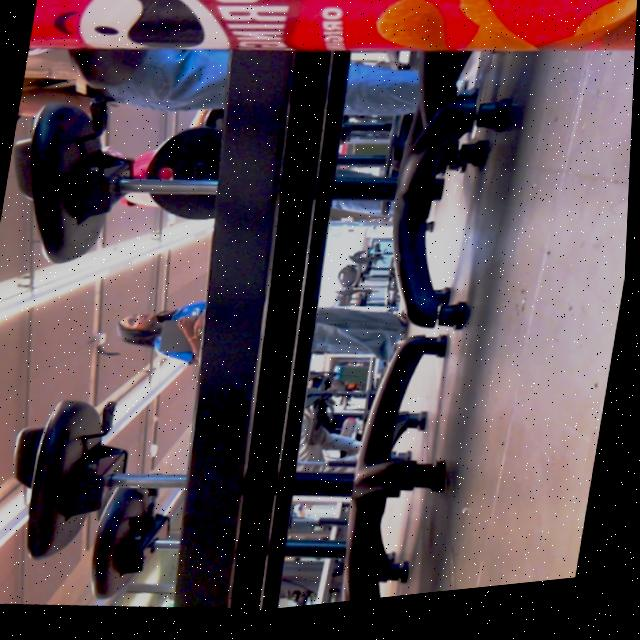redpringles: (21, 0, 640, 156)
